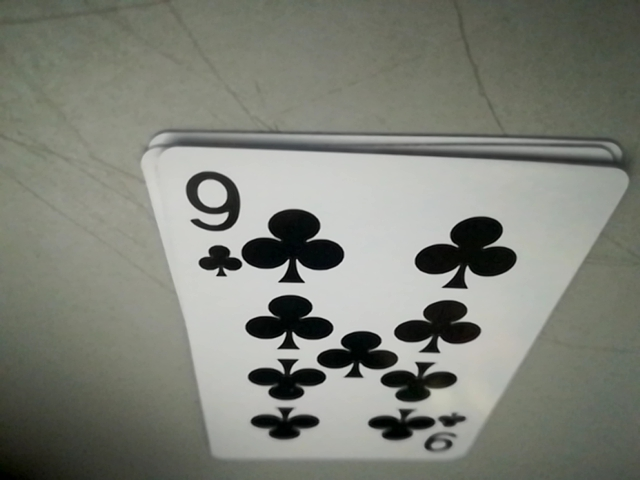mh 9: (171, 149, 261, 280), (393, 410, 471, 457)
